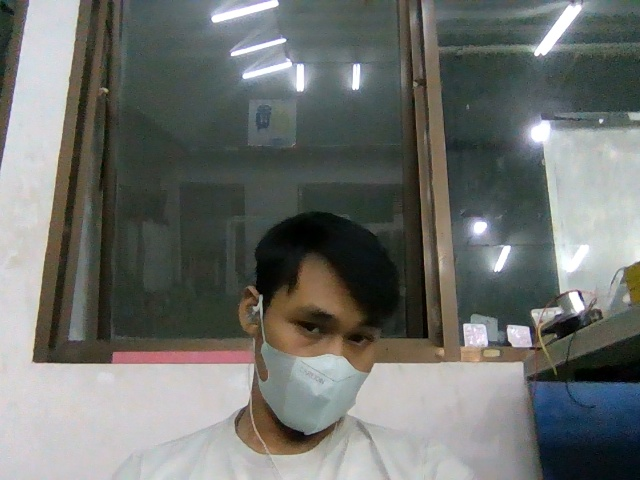mask_on: (257, 341, 372, 436)
